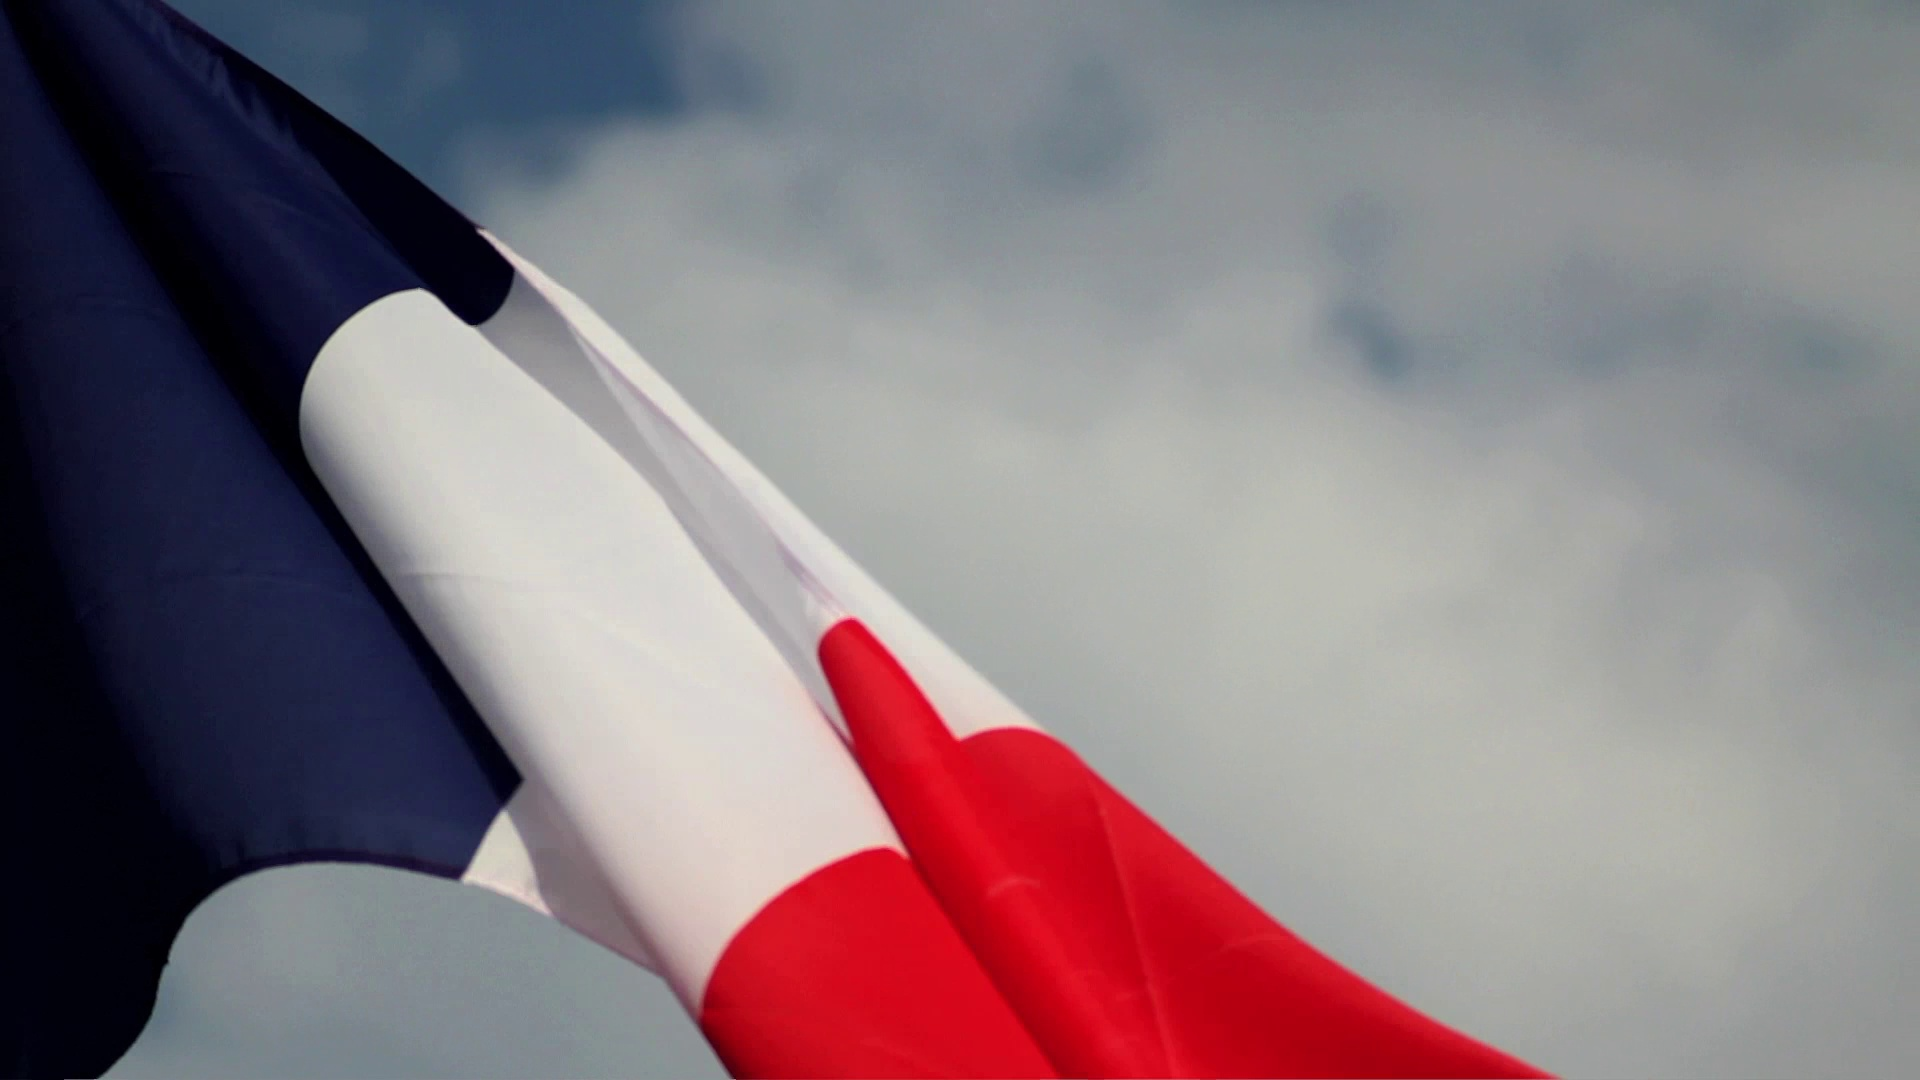French Flag: (1, 1, 1560, 1080)
